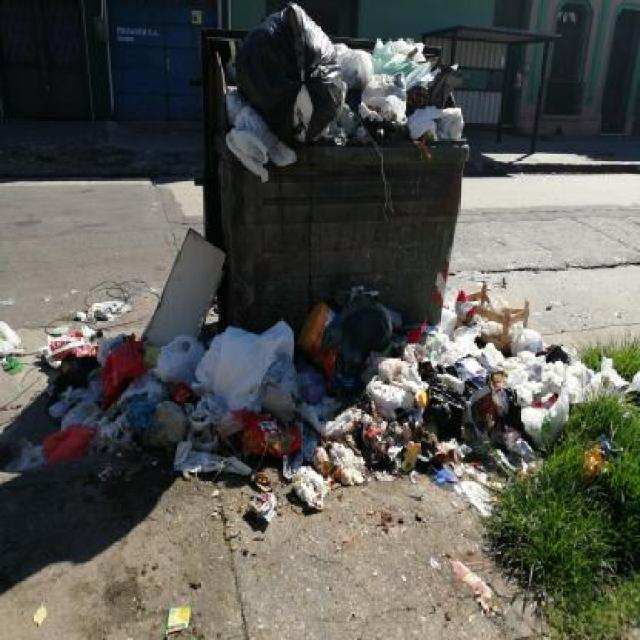garbage: (39, 305, 350, 516), (357, 291, 640, 485), (223, 18, 467, 156), (165, 594, 204, 640), (0, 319, 28, 350)
